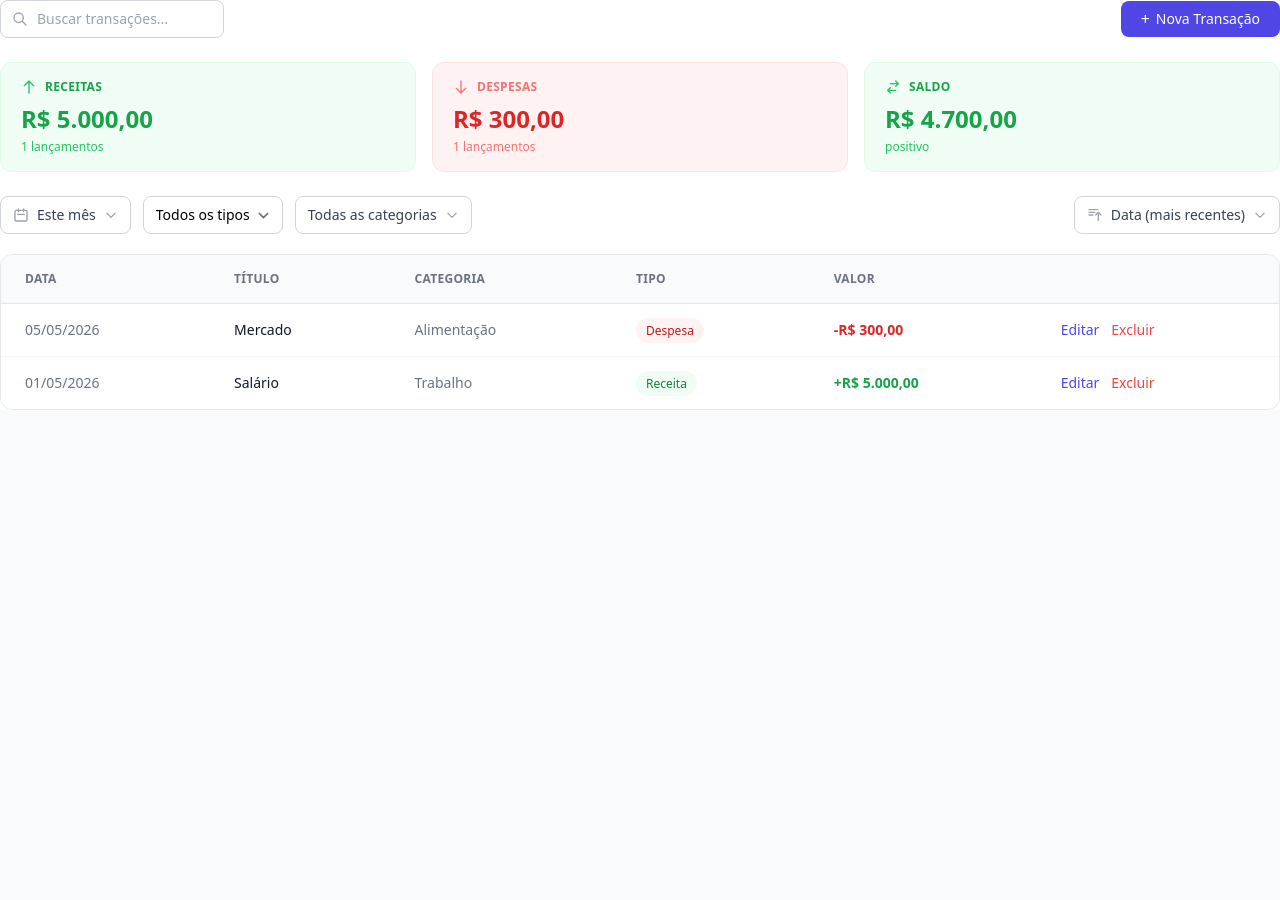
Test: Transactions page › opens modal when "Nova Transação" is clicked
Expected: the text "Salário" is shown, left=210, top=356, right=390, bottom=409
Click the button "+ Nova Transação": x=1200, y=19 left=1121, top=1, right=1279, bottom=37
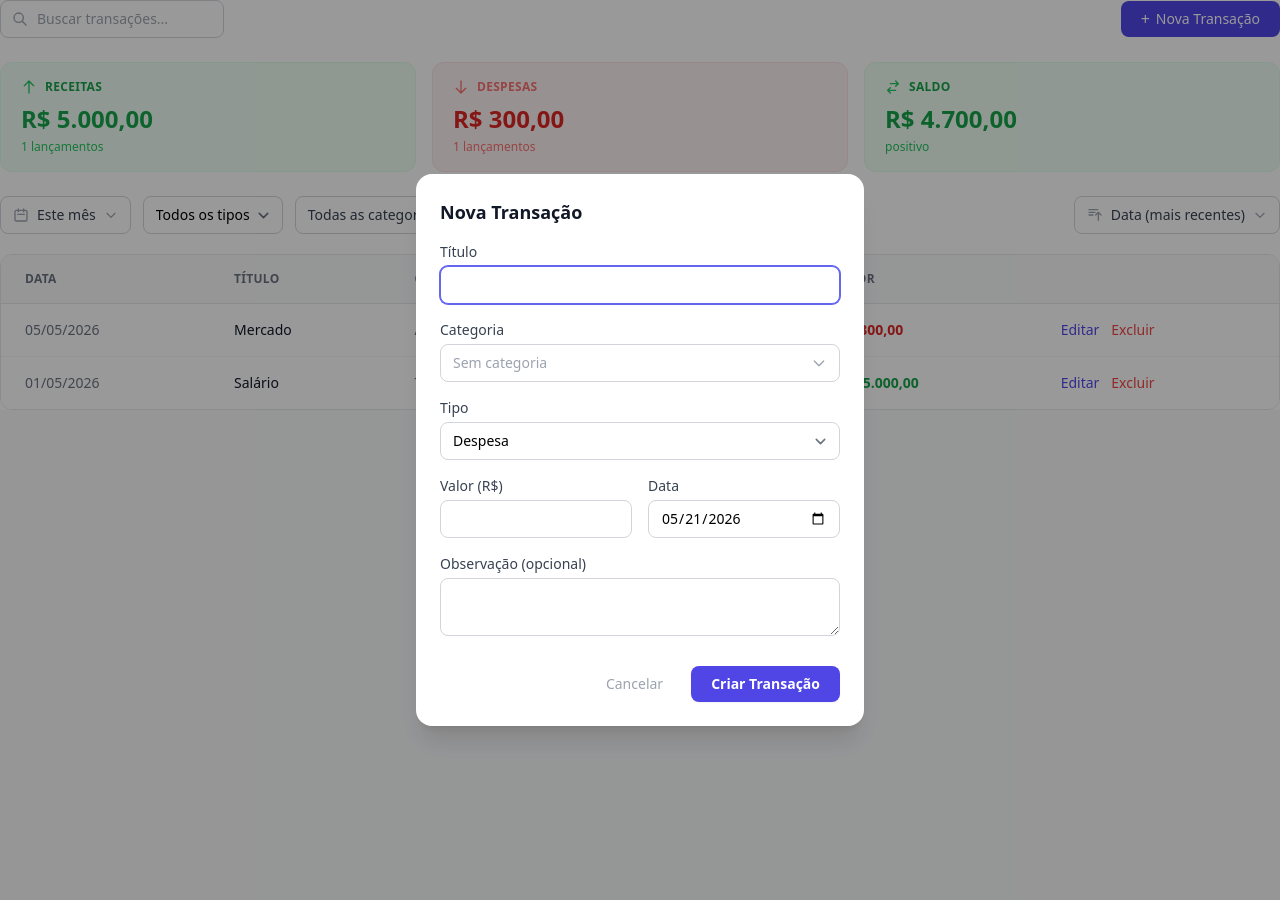
Expected: the heading "Nova Transação" is shown, left=440, top=200, right=582, bottom=224
